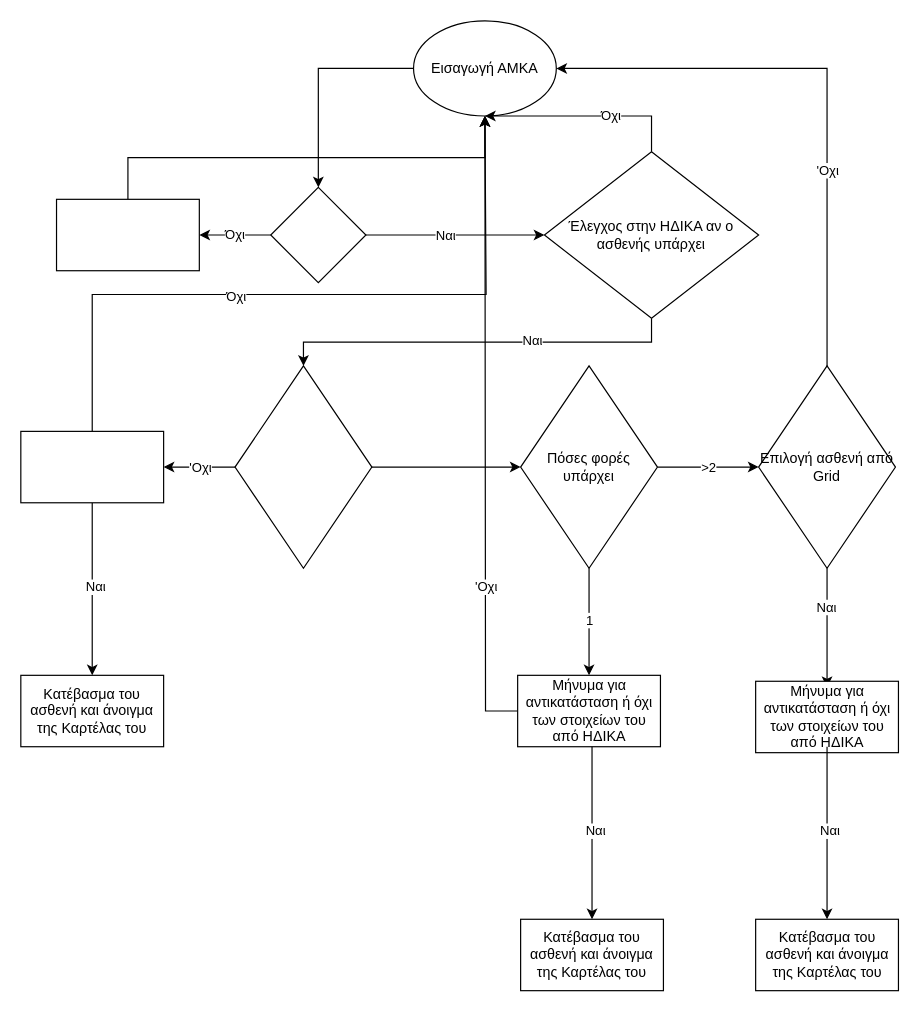
This 920x1012 diagram has some shape labels left out. The shapes that lost their labels are listed below. From the top down, each one's centre as x and y in pixels, then its label:
At (127,234): "Μήνυμα Λάθους δεν δόθηκε Έγκυρο ΑΜΚΑ".
At (318,234): "Έγκυρο ΑΜΚΑ".
At (92,466): "Μήνυμα για Δημιουργία ασθενή και άνοιγμα καρτέλας ασθενούς".
At (303,466): "Έλεγχος με ΑΜΚΑ αν υπάρχει στην βάση του TMS".
